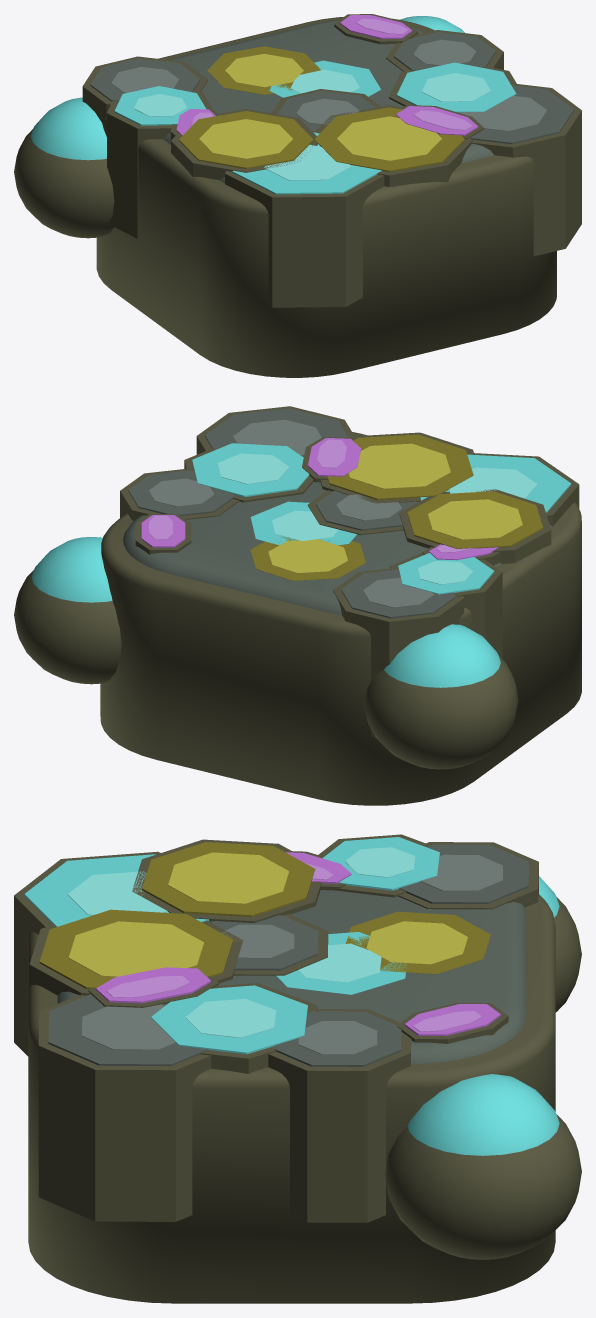
Rendered from body_geodo.fbx.
The picture shows the model from 3 angles, top to bottom: view 1: azimuth 30°, elevation 25°; view 2: azimuth 150°, elevation 25°; view 3: azimuth 270°, elevation 25°; orthographic projection. The views are drawn at different scales.
Visible parts, largest first — view 1: body_geodo_corpo, body_geodo_mao_esq, body_geodo_mao; view 2: body_geodo_corpo, body_geodo_mao_esq, body_geodo_mao; view 3: body_geodo_corpo, body_geodo_mao, body_geodo_mao_esq.
Boxes of the visible parts, bbox=[...] form: body_geodo_corpo: bbox=[82, 14, 581, 377]; body_geodo_mao_esq: bbox=[14, 97, 114, 238]; body_geodo_mao: bbox=[400, 16, 464, 32]; body_geodo_corpo: bbox=[100, 406, 581, 805]; body_geodo_mao_esq: bbox=[364, 624, 518, 769]; body_geodo_mao: bbox=[14, 537, 121, 684]; body_geodo_corpo: bbox=[14, 834, 555, 1303]; body_geodo_mao: bbox=[385, 1074, 581, 1259]; body_geodo_mao_esq: bbox=[539, 876, 581, 1012].
Bounding box in the file's own units: 5.4 × 2.06 × 4.31.
1 material, 1 textured.
